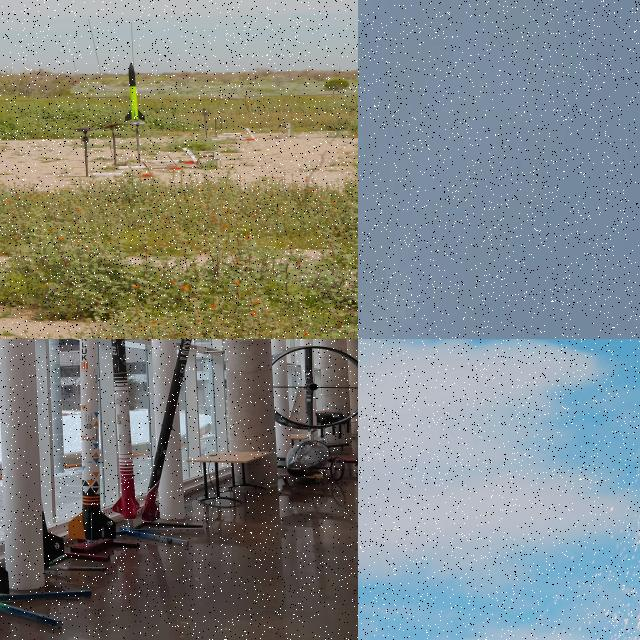Rocket: (68, 339, 116, 541), (140, 339, 192, 522), (111, 339, 140, 520), (124, 62, 146, 122)
